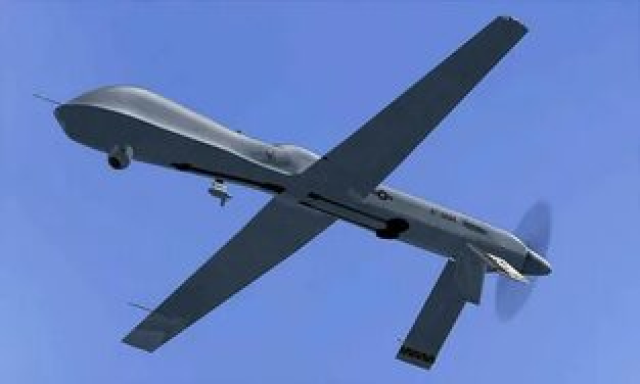military drone: (32, 15, 552, 371)
